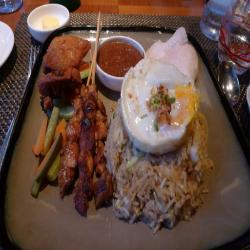ketchup: (94, 36, 152, 96)
rice: (107, 102, 213, 230)
